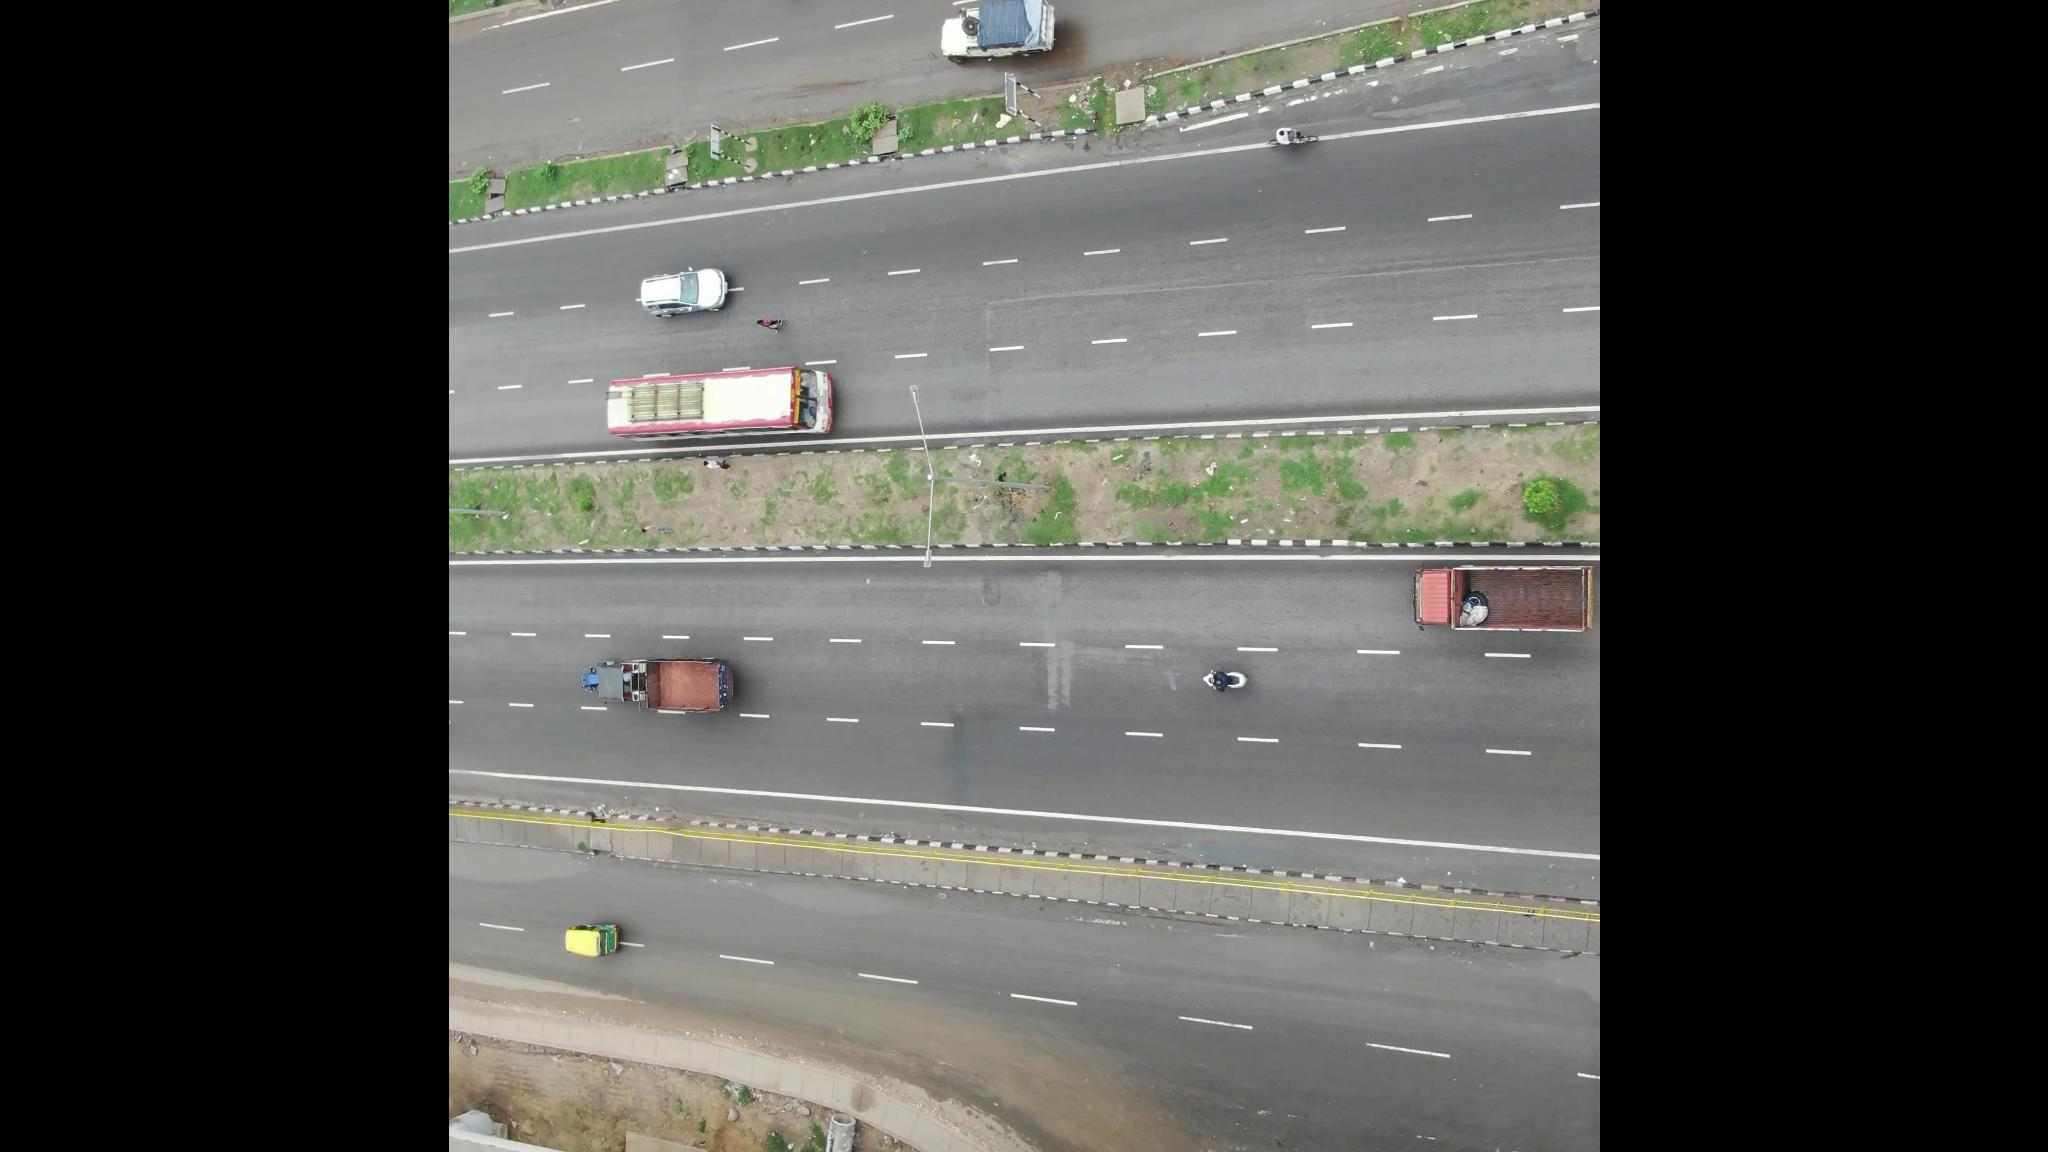Potholes: (1023, 610, 1115, 722), (976, 570, 1063, 626)
